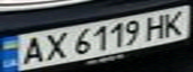1: (90, 22, 112, 52), (106, 20, 127, 48)
6: (69, 25, 93, 56)
9: (121, 17, 148, 46)
A: (15, 34, 48, 66)
H: (139, 12, 172, 41)
K: (157, 7, 190, 37)
X: (39, 29, 72, 62)
